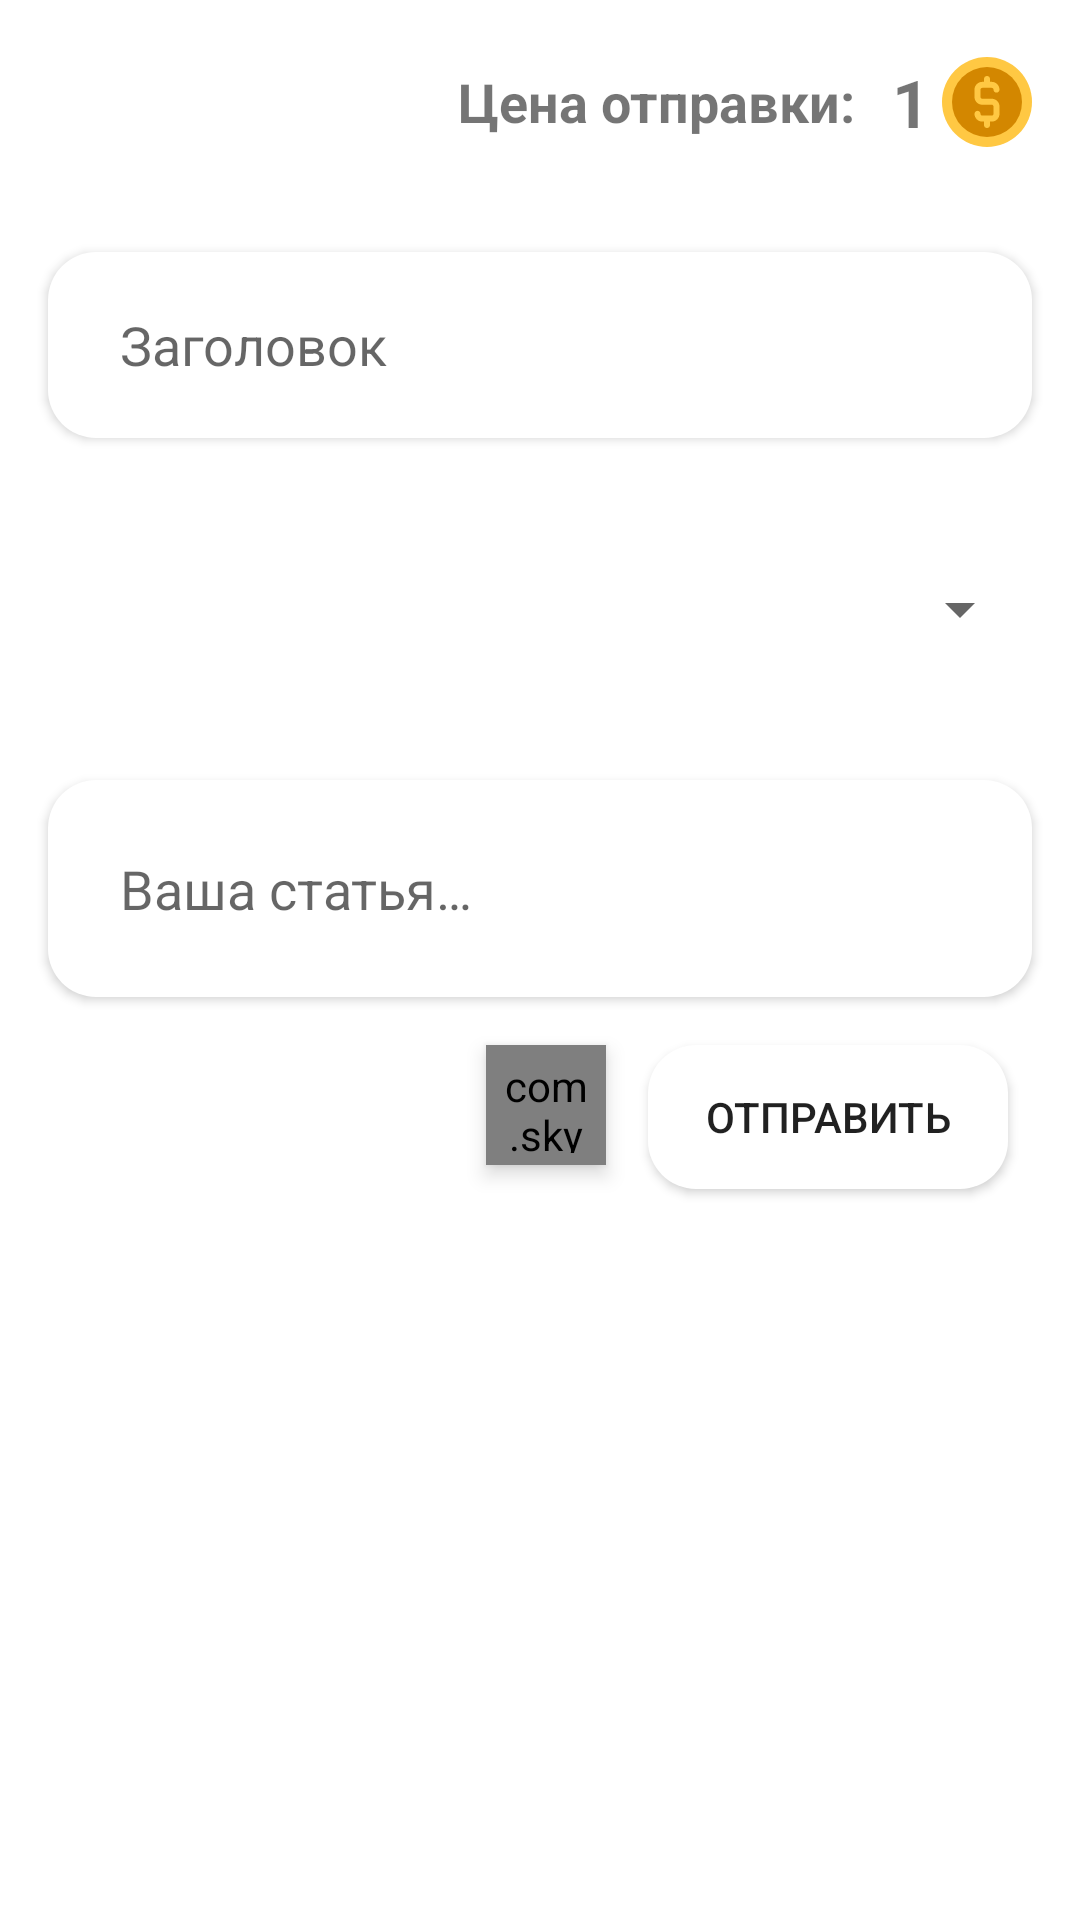

Icon click points for this 1080w x 1920h phone screenshot, format (x,y):
coin: (987,102)
